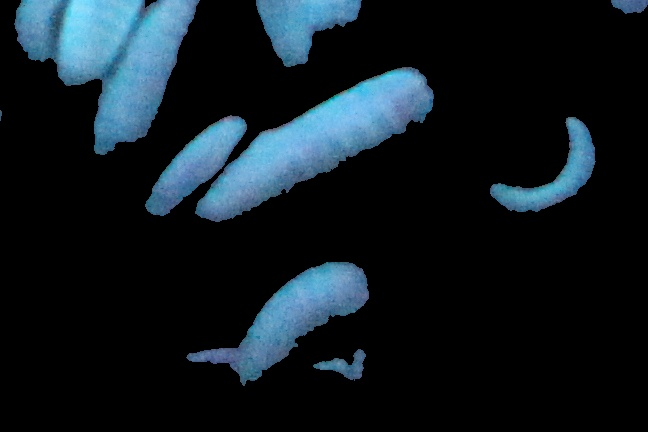larvae: (201, 73, 432, 235), (226, 260, 373, 391), (96, 1, 203, 164), (487, 120, 600, 216), (151, 113, 240, 217), (57, 1, 140, 87), (254, 1, 310, 76), (15, 1, 66, 72)
